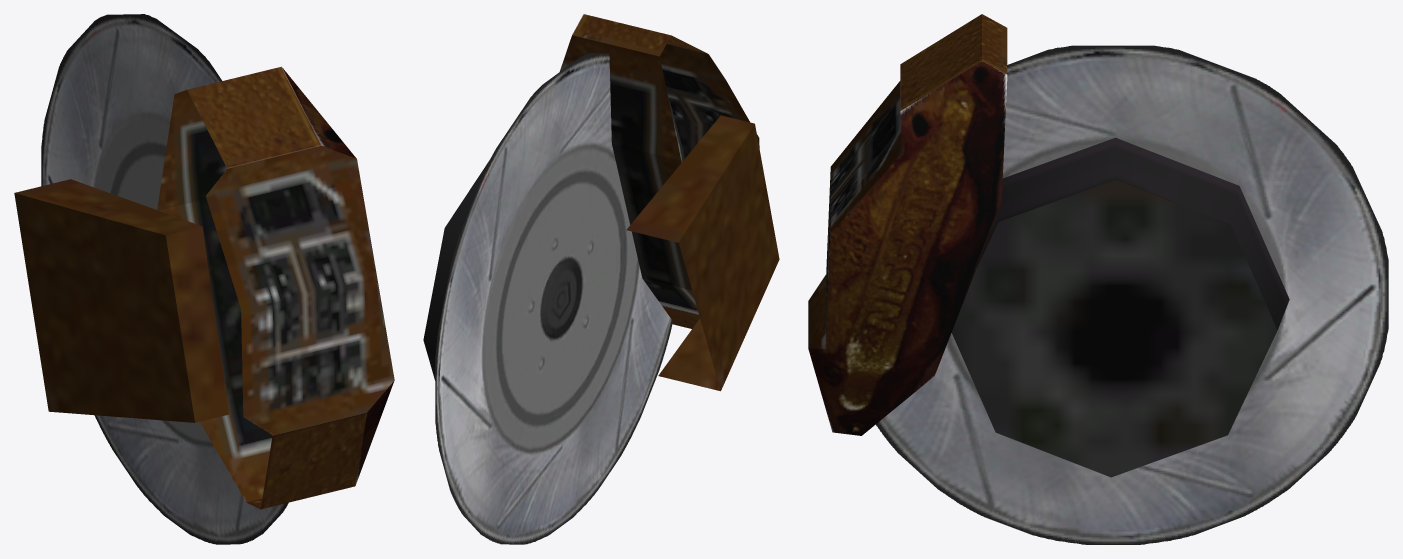
The model's file is nissan_silvia_s15_front_left_brake.fbx.
The picture shows the model from 3 angles, left to right: view 1: azimuth 30°, elevation 25°; view 2: azimuth 150°, elevation 25°; view 3: azimuth 270°, elevation 25°; orthographic projection. The views are drawn at different scales.
Visible parts, largest first — view 1: x0_hub_caliper_fl, x0_disc_fl; view 2: x0_disc_fl, x0_hub_caliper_fl; view 3: x0_hub_caliper_fl, x0_disc_fl.
Boxes of the visible parts, x1,y1,x2,y2 form: x0_hub_caliper_fl: (14,66,394,509); x0_disc_fl: (41,14,288,544); x0_disc_fl: (435,53,684,544); x0_hub_caliper_fl: (423,14,779,391); x0_hub_caliper_fl: (808,14,1289,477); x0_disc_fl: (876,45,1388,544).
Size of the model in its own units: 0.1468 by 0.307 by 0.3206.
